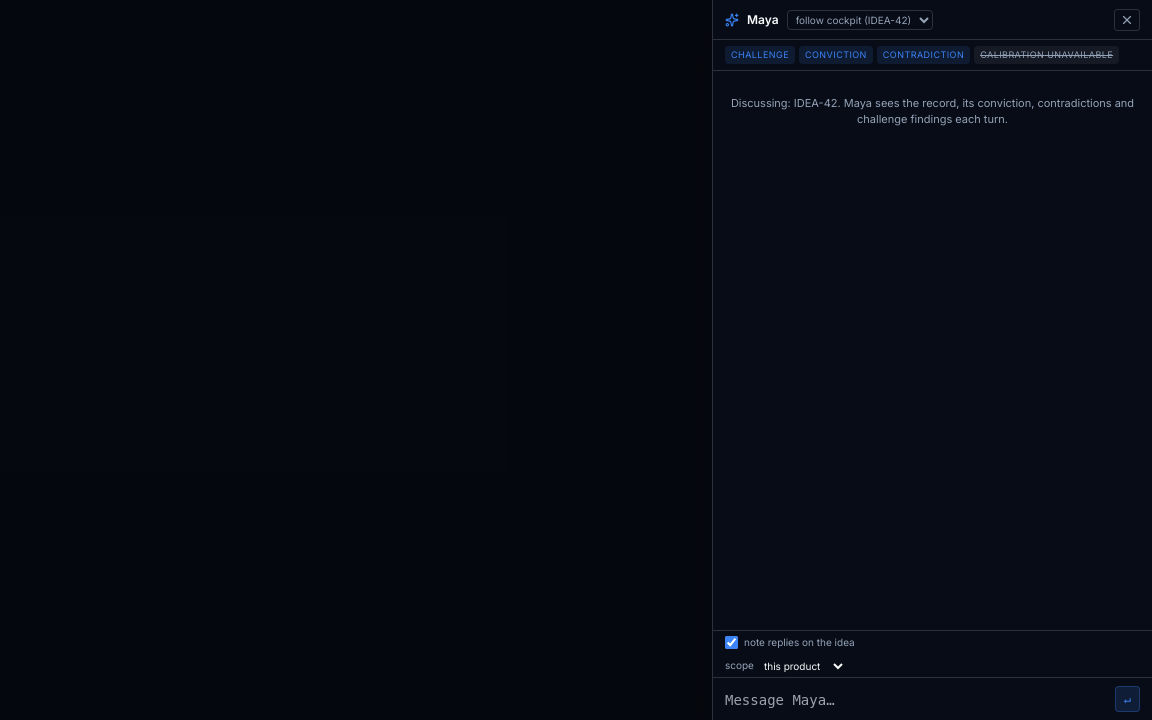
Test: write-back chips › ok → confirmation chip
The width and height of the screenshot is (1152, 720).
Type "hi" into the text box with placeholder "Message Maya…" at (916, 701), box [725, 689, 1107, 712]
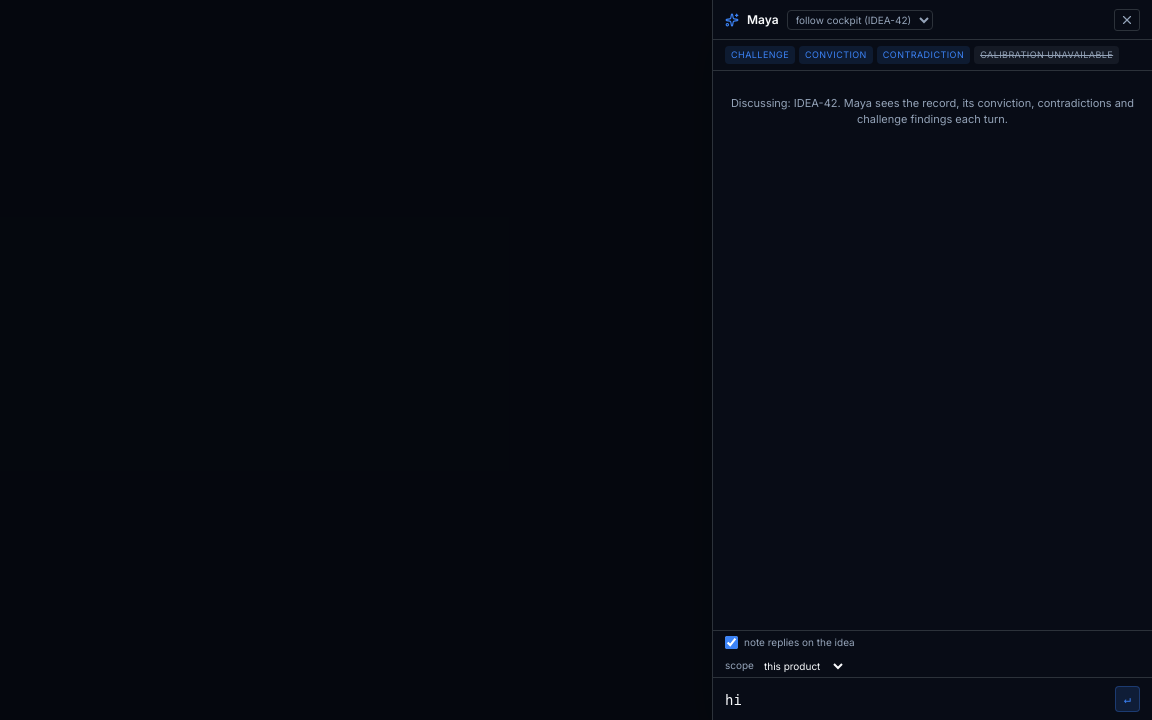
Press Enter in the text box, box [725, 689, 1107, 712]
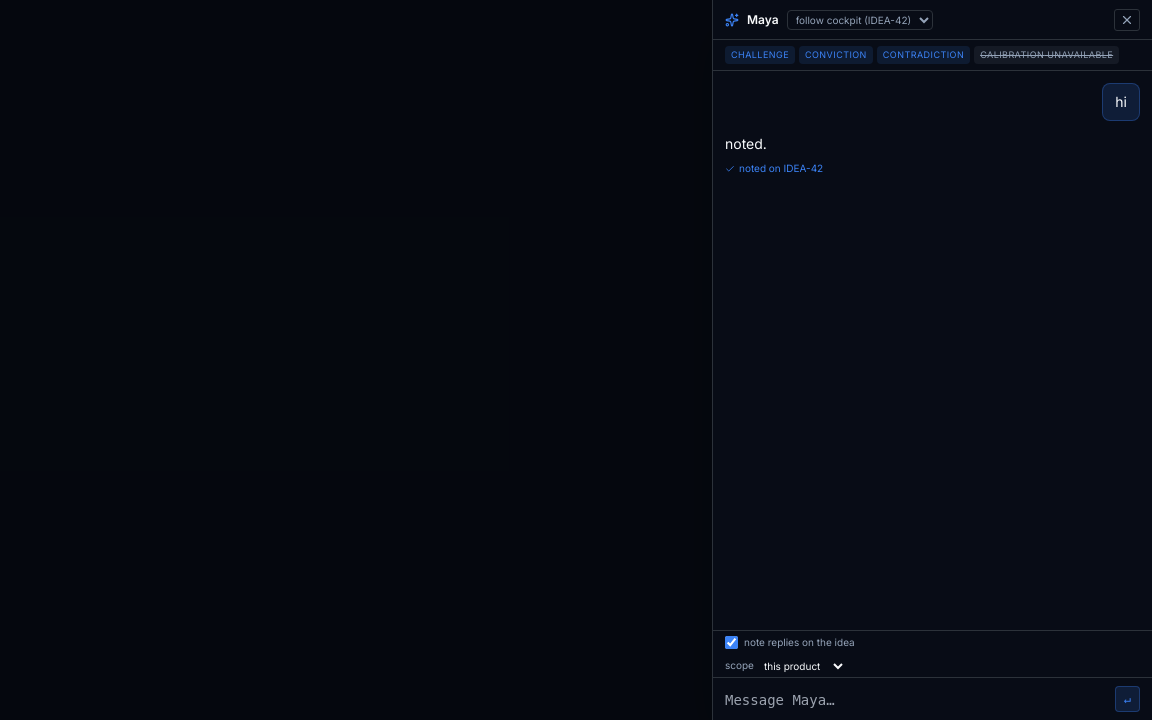
Check: the text "noted." is shown, box [725, 134, 767, 152]
Check: the text "noted on IDEA-42" is shown, box [725, 162, 823, 174]
